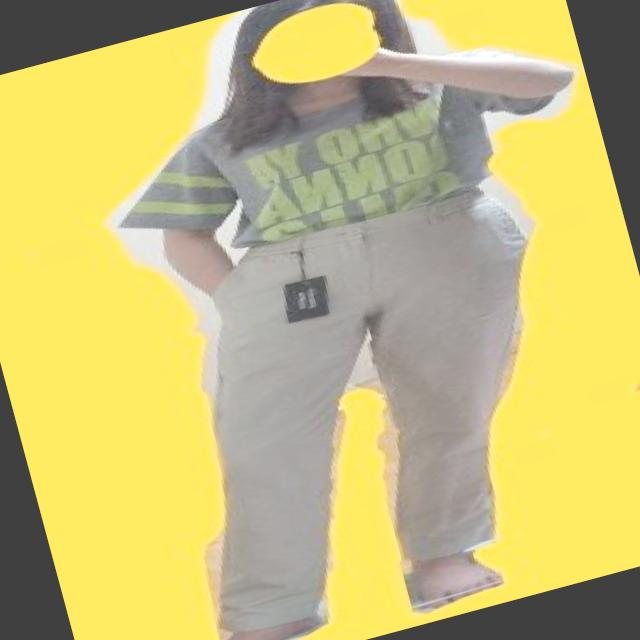cottonpants: (138, 177, 618, 640)
shortsleeve: (103, 18, 602, 285)
